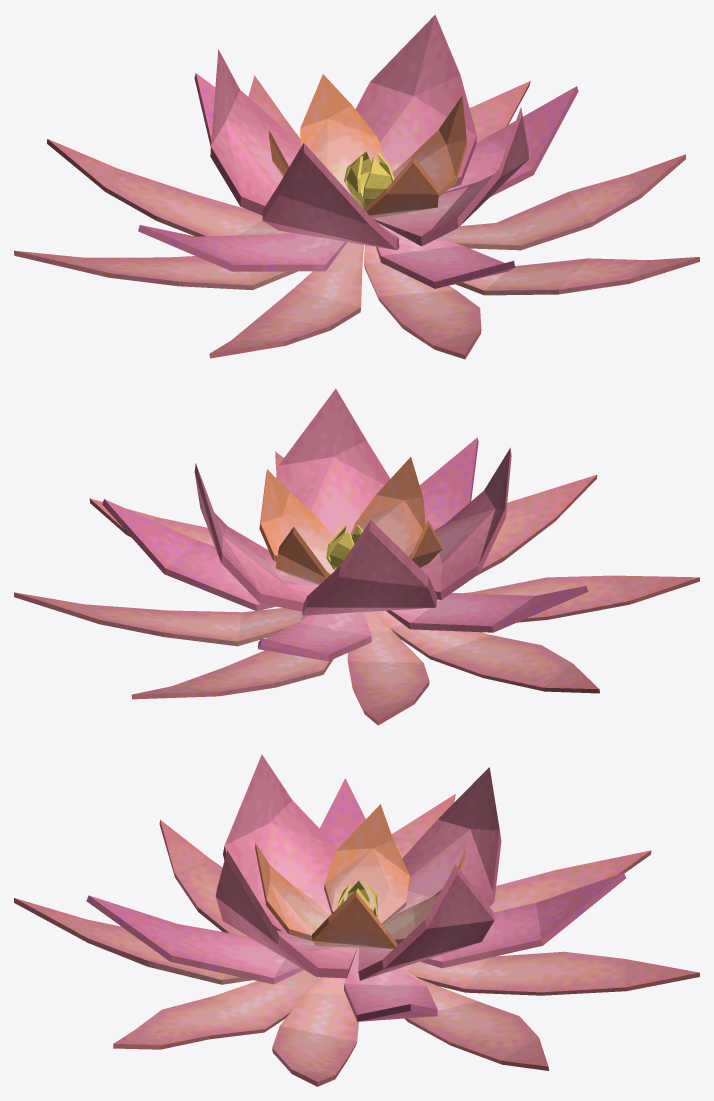
File: mdl_hub_lotus.gltf
The picture shows the model from 3 angles, top to bottom: view 1: azimuth 30°, elevation 25°; view 2: azimuth 150°, elevation 25°; view 3: azimuth 270°, elevation 25°; orthographic projection. The views are drawn at different scales.
Parts seen in each view (by area): view 1: Lotus.000; view 2: Lotus.000; view 3: Lotus.000.
Boxes of the visible parts, x1,y1,x2,y2 form: Lotus.000: (14, 14, 699, 359); Lotus.000: (14, 388, 699, 725); Lotus.000: (14, 754, 699, 1086).
Size of the model in its own units: 0.5444 by 0.1574 by 0.5452.
1 material, 1 textured.
